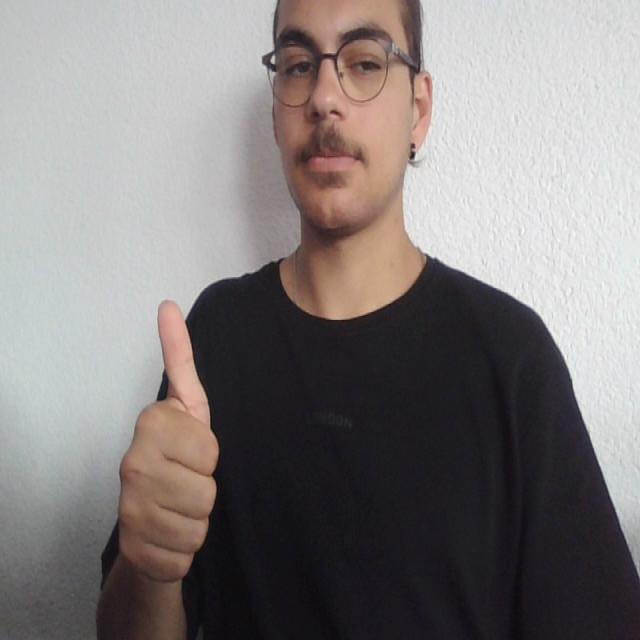Tamam: (109, 284, 237, 584)
